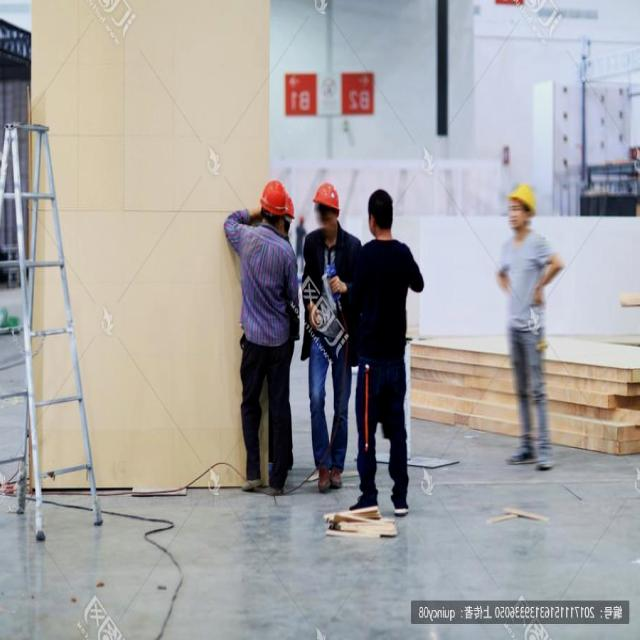face_nomask: (507, 202, 525, 232)
head_helmet: (254, 176, 294, 223), (506, 180, 539, 216), (313, 178, 344, 215)
head_nohelmet: (367, 181, 397, 210)
person: (340, 181, 416, 516), (224, 178, 302, 495), (295, 182, 361, 470), (501, 186, 554, 453)
shoes: (348, 481, 381, 518), (510, 432, 539, 470), (535, 433, 557, 469), (390, 490, 414, 516)
